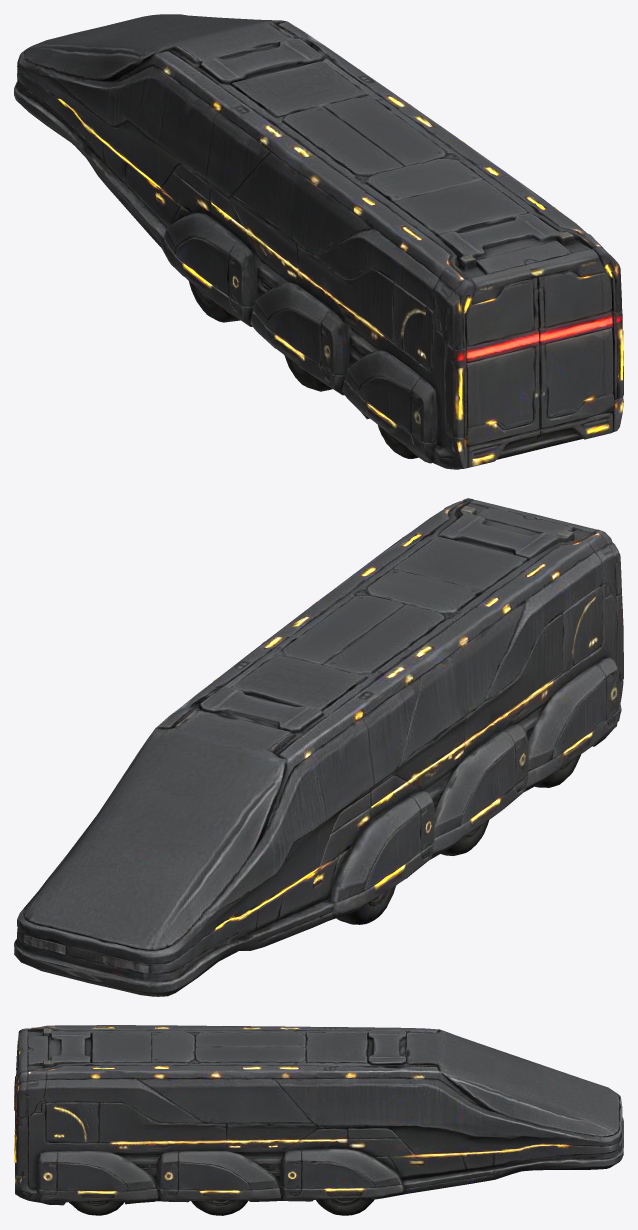
Rendered from truck.glb.
The picture shows the model from 3 angles, top to bottom: view 1: azimuth 30°, elevation 25°; view 2: azimuth 150°, elevation 25°; view 3: azimuth 270°, elevation 25°; orthographic projection. The views are drawn at different scales.
Parts seen in each view (by area): view 1: SM_truck; view 2: SM_truck; view 3: SM_truck.
Boxes of the visible parts, x1,y1,x2,y2 form: SM_truck: [14, 14, 623, 469]; SM_truck: [14, 498, 623, 996]; SM_truck: [14, 1025, 623, 1215].
Bounding box in the file's own units: 0.2455 × 0.2585 × 0.9804.
1 material, 1 textured.
